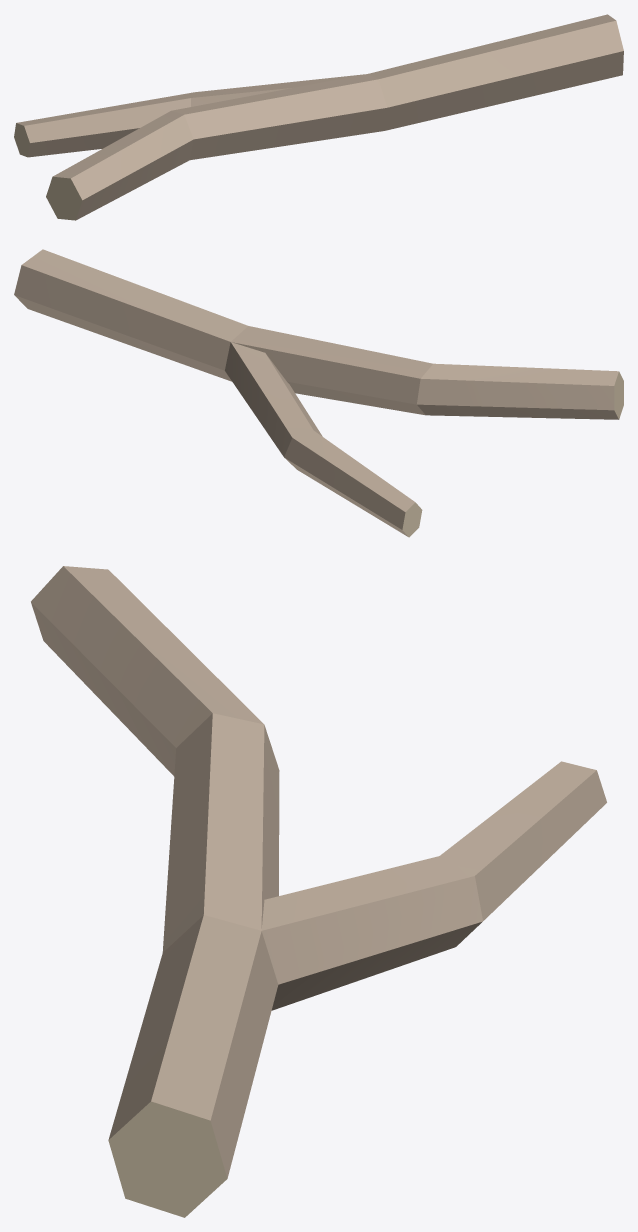
File: Prop_Branch_1.gltf
3 renders of one model, top to bottom at view 1: azimuth 30°, elevation 25°; view 2: azimuth 150°, elevation 25°; view 3: azimuth 270°, elevation 25°, orthographic. The views are drawn at different scales.
Visible parts, largest first — view 1: object1; view 2: object1; view 3: object1.
Part boxes in pixels (x1,y1,x2,y2): object1: (14, 14, 623, 220); object1: (14, 249, 623, 537); object1: (31, 566, 606, 1217).
Size of the model in its own units: 1.89 by 0.2955 by 0.8225.
